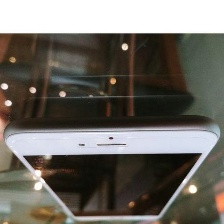phone: (2, 113, 224, 224)
